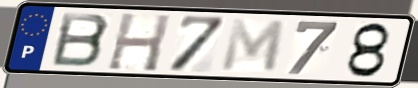7: (168, 13, 229, 74), (285, 19, 342, 76)
8: (345, 21, 393, 79)
B: (49, 10, 113, 69)
H: (104, 11, 174, 74)
M: (218, 17, 288, 75)
